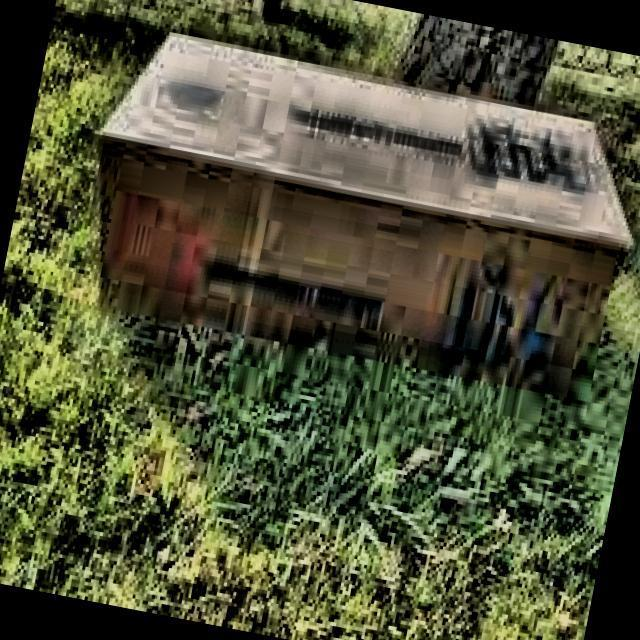cardboard: (63, 19, 640, 416)
